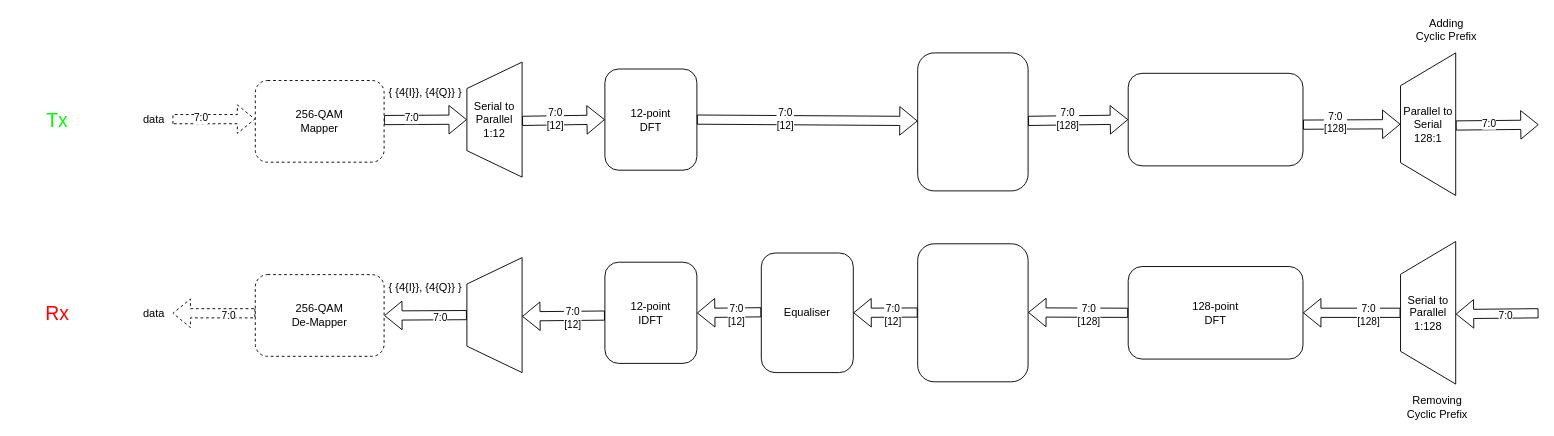
Some shapes in this 1554 by 436 pixel diagram are drawn without their labels. Here are the shapes that lost their labels. From the top down, the centre of each, then its label:
At point 972,121: "Subcarrier Mapper".
At point 1215,119: "128-point IDFT".
At point 494,315: "Parallel to Serial 12:1".
At point 972,312: "Subcarrier De-Mapper".
